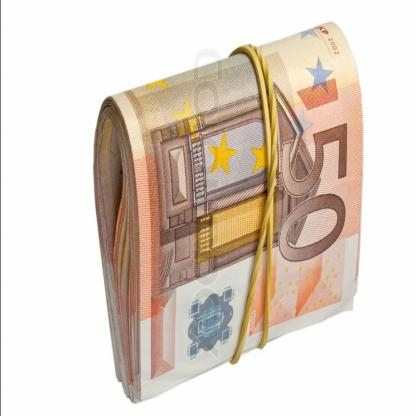euro_banknote: (60, 75, 411, 350)
